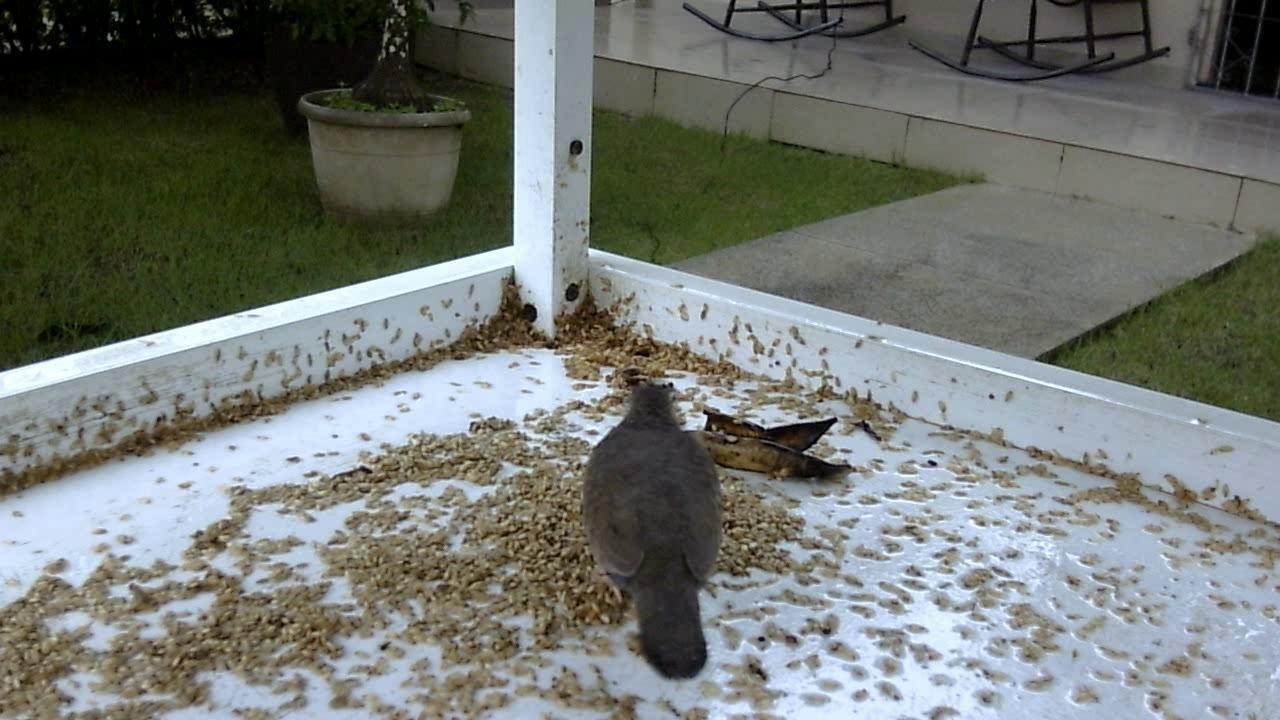rolinha: (573, 367, 733, 683)
